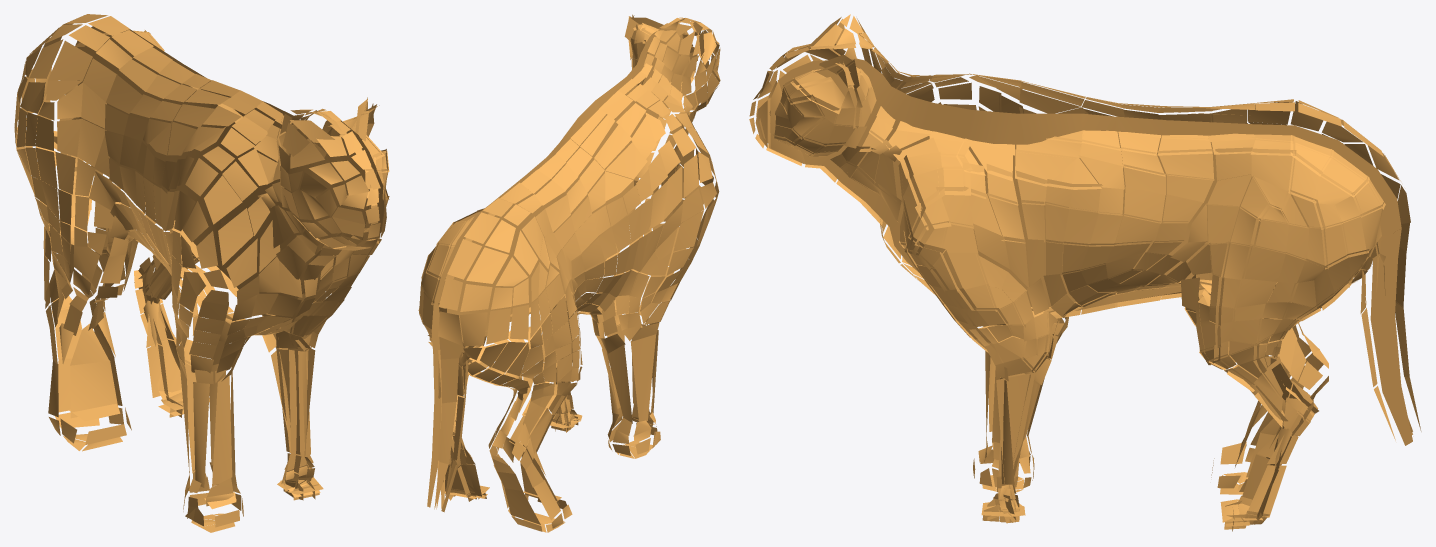
Rendered from synthetic-coat-surface.glb.
3 renders of one model, left to right at view 1: azimuth 30°, elevation 25°; view 2: azimuth 150°, elevation 25°; view 3: azimuth 270°, elevation 25°, orthographic. The views are drawn at different scales.
Parts seen in each view (by area): view 1: SYNTHETIC OBSERVED COAT; view 2: SYNTHETIC OBSERVED COAT; view 3: SYNTHETIC OBSERVED COAT.
Part boxes in pixels (x1,y1,x2,y2): SYNTHETIC OBSERVED COAT: (14,14,389,532); SYNTHETIC OBSERVED COAT: (418,14,720,532); SYNTHETIC OBSERVED COAT: (749,14,1421,531).
Bounding box in the file's own units: 20.56 × 49.68 × 63.71.
